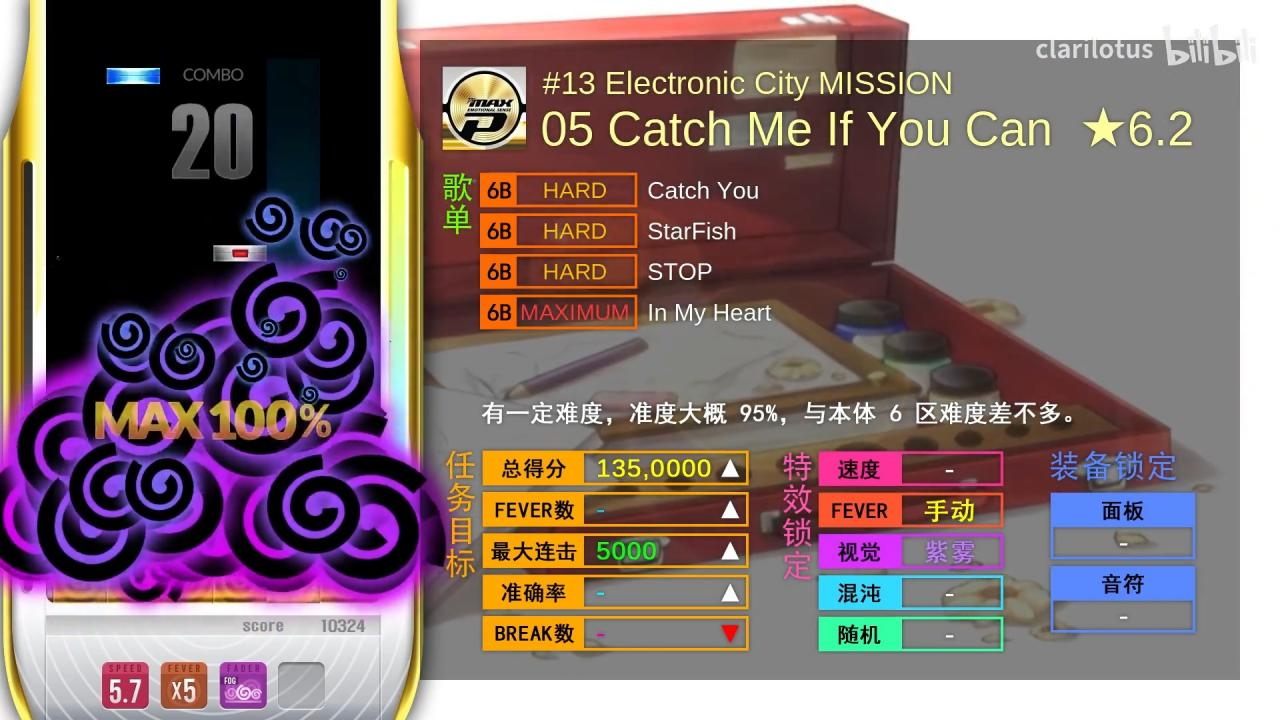note: (106, 67, 160, 85), (214, 245, 267, 262)
